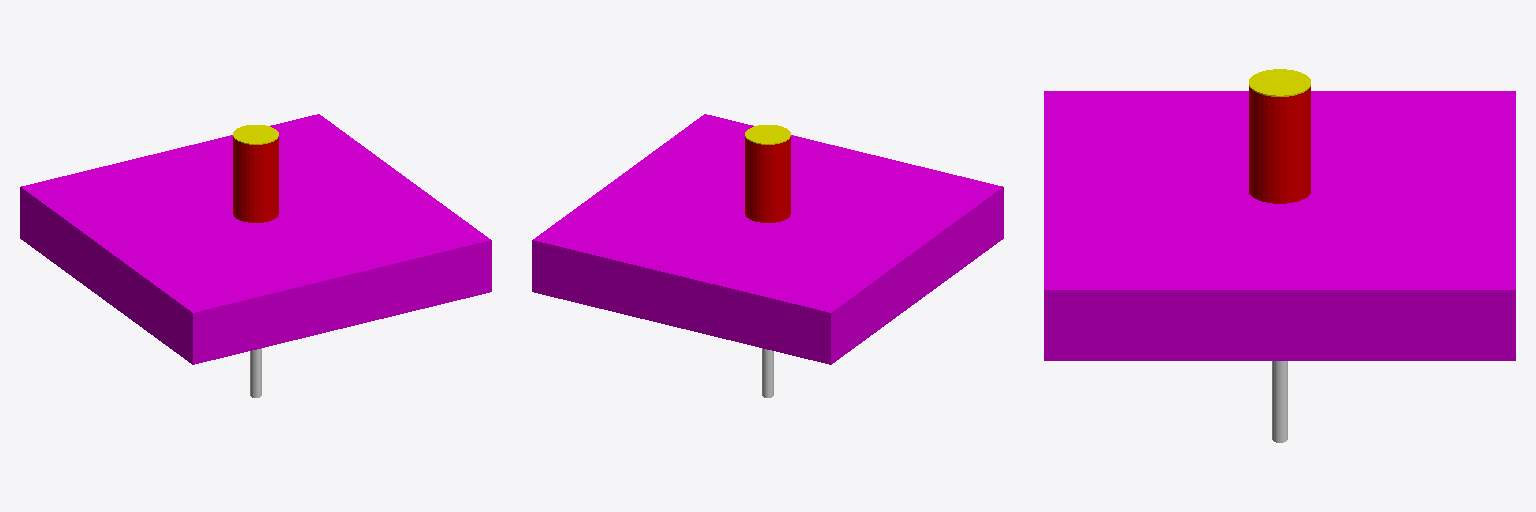
URDF robot description (screwdriver_on_the_table):
<?xml version="1.0" ?>

<robot name="screwdriver_on_the_table">
<link name="table">
    <inertial>
      <mass value="10000.0"/>
    </inertial>
    <visual>
      <origin rpy="0 0 0" xyz="0 0 -0.025"/>
        <geometry>
            <box size="0.3 0.3 0.05"/>
        </geometry>
           <material name="Purple1">
        <color rgba="0.9 0. 0.9 1.0"/>
    </material>
    </visual>
    <collision>
      <origin rpy="0 0 0" xyz="0 0 -0.025"/>
        <geometry>
            <box size="0.3 0.3 0.05"/>
        </geometry>
    </collision>
</link>

<joint name="table_screwdriver_joint_1" type="prismatic">
    <parent link="table"/>
    <child link="virtual_link_1"/>
    <origin rpy="0 0 0" xyz="0 0 0"/>
    <axis xyz="1 0 0"/>
    <limit effort="100" lower="-0.5" upper="0.5" velocity="1.0"/>
</joint>

<link name="virtual_link_1">
    <inertial>
      <mass value="0.00000"/>
    </inertial>
</link>

<joint name="table_screwdriver_joint_2" type="prismatic">
    <parent link="virtual_link_1"/>
    <child link="virtual_link_2"/>
    <origin rpy="0 0 0" xyz="0 0 0"/>
    <axis xyz="0 1 0"/>
    <limit effort="100" lower="-0.5" upper="0.5" velocity="1.0"/>
</joint>

<link name="virtual_link_2">
    <inertial>
      <mass value="0.00000"/>
    </inertial>
</link>

<joint name="table_screwdriver_joint_3" type="prismatic">
    <parent link="virtual_link_2"/>
    <child link="virtual_link_3"/>
    <origin rpy="0 0 0" xyz="0 0 0"/>
    <axis xyz="0 0 1"/>
    <limit effort="100" lower="-0.5" upper="0.5" velocity="1.0"/>
</joint>

<link name="virtual_link_3">
    <inertial>
      <mass value="0.00000"/>
    </inertial>
</link>


<joint name="table_screwdriver_joint_4" type="revolute">
    <parent link="virtual_link_3"/>
    <child link="virtual_link_4"/>
    <origin rpy="0 0 0" xyz="0 0 0"/>
    <axis xyz="1 0 0"/>
</joint>

<link name="virtual_link_4">
    <inertial>
      <mass value="0.00000"/>
    </inertial>
</link>

<joint name="table_screwdriver_joint_5" type="revolute">
    <parent link="virtual_link_4"/>
    <child link="virtual_link_5"/>
    <origin rpy="0 0 0" xyz="0 0 0"/>
    <axis xyz="0 1 0"/>
</joint>

<link name="virtual_link_5">
    <inertial>
      <mass value="0.00000"/>
    </inertial>
</link>

<joint name="table_screwdriver_joint_6" type="revolute">
    <parent link="virtual_link_5"/>
    <child link="screwdriver_body"/>
    <origin rpy="0 0 0" xyz="0 0 0"/>
    <axis xyz="0 0 1"/>
</joint>


<link name="screwdriver_body">
    <inertial>
      <mass value="0.3"/>
    </inertial>
    <visual>
        <origin rpy="0 0 0" xyz="0 0 0"/>
        <geometry>
            <cylinder radius="0.02" length="0.15"/>
        </geometry>
        <material name="Red1">
            <color rgba="0.9 0. 0. 0.5"/>
        </material>
    </visual>
    <collision>
        <origin rpy="0 0 0" xyz="0 0 0.0"/>
        <geometry>
            <cylinder radius="0.02" length="0.15"/>
        </geometry>
    </collision>
</link>

<joint name="screwdriver_stick_body_joint" type="fixed">
    <parent link="screwdriver_body"/>
    <child link="screwdriver_stick"/>
    <origin rpy="0 0 0" xyz="0 0 -0.125"/>
    <axis xyz="0 0 1"/>
</joint>


<link name="screwdriver_stick">
    <inertial>
      <mass value="0.05"/>
    </inertial>
    <visual>
        <origin rpy="0 0 0" xyz="0 0 0"/>
        <geometry>
            <cylinder radius="0.005" length="0.1"/>
        </geometry>
        <material name="White">
            <color rgba="0.9 0.9 0.9 0.5"/>
        </material>
    </visual>
    <collision>
        <origin rpy="0 0 0" xyz="0 0 0"/>
        <geometry>
            <cylinder radius="0.005" length="0.1"/>
        </geometry>
    </collision>
</link>


<joint name="screwdriver_body_cap_joint" type="revolute">
    <parent link="screwdriver_body"/>
    <child link="screwdriver_cap"/>
    <origin rpy="0 0 0" xyz="0 0 0.075"/>
    <axis xyz="0 0 1"/>
</joint>

<link name="screwdriver_cap">
    <inertial>
      <mass value="0.005"/>
    </inertial>
    <visual>
        <origin rpy="0 0 0" xyz="0 0 0.0005"/>
        <geometry>
            <cylinder radius="0.02" length="0.001"/>
        </geometry>
        <material name="Yellow">
            <color rgba="0.9 0.9 0. 1.0"/>
        </material>
    </visual>
    <collision>
        <origin rpy="0 0 0" xyz="0 0 0.0005"/>
        <geometry>
            <cylinder radius="0.02" length="0.001"/>
        </geometry>
    </collision>
</link>

</robot>

--- Facts derived from the render (not from the file) ---
Views: 3 orthographic renders of the robot side by side, from view 1: azimuth 30°, elevation 25°; view 2: azimuth 150°, elevation 25°; view 3: azimuth 270°, elevation 25°.
Robot: screwdriver_on_the_table — 9 links, 8 joints (4 revolute, 3 prismatic, 1 fixed); root link table; default pose: all joints at 0.
Visible links, largest first — view 1: table, screwdriver_body, screwdriver_cap, screwdriver_stick; view 2: table, screwdriver_body, screwdriver_cap, screwdriver_stick; view 3: table, screwdriver_body, screwdriver_cap, screwdriver_stick.
Boxes of the visible links, box(x1,y1,x2,y2) form: table: box(20, 114, 491, 364); screwdriver_body: box(233, 137, 278, 222); screwdriver_cap: box(233, 125, 278, 144); screwdriver_stick: box(250, 348, 261, 397); table: box(532, 114, 1003, 364); screwdriver_body: box(745, 137, 790, 222); screwdriver_cap: box(745, 125, 790, 144); screwdriver_stick: box(762, 348, 773, 397); table: box(1044, 91, 1515, 360); screwdriver_body: box(1249, 87, 1310, 203); screwdriver_cap: box(1249, 69, 1310, 96); screwdriver_stick: box(1272, 361, 1287, 442).
Size in the robot's own frame: 0.3 by 0.3 by 0.251 metres.
Geometry: primitives only (box / cylinder / sphere), no mesh files.
